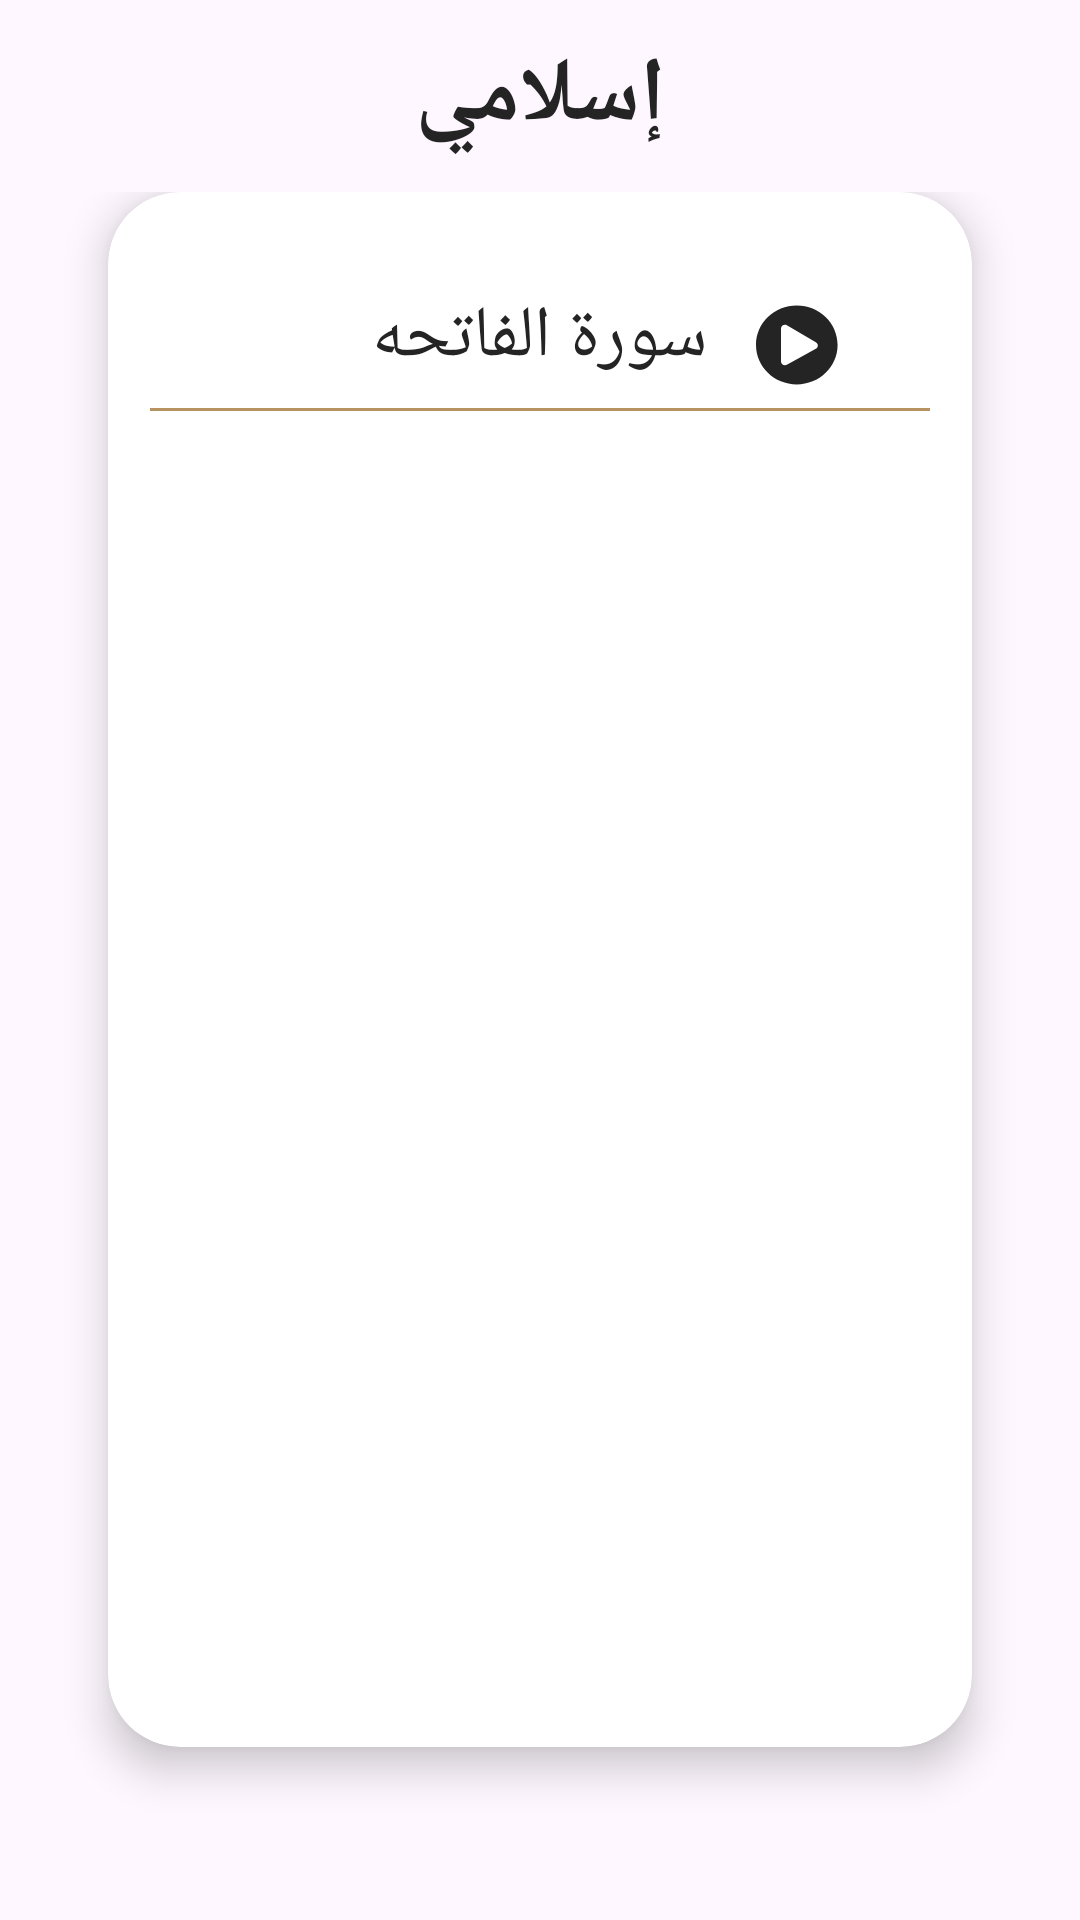

Named icons in this screenshot (1080px×1920px) and their bounding boxes, (x1, y1, x2, y2):
chapter play: (756, 305, 838, 385)
